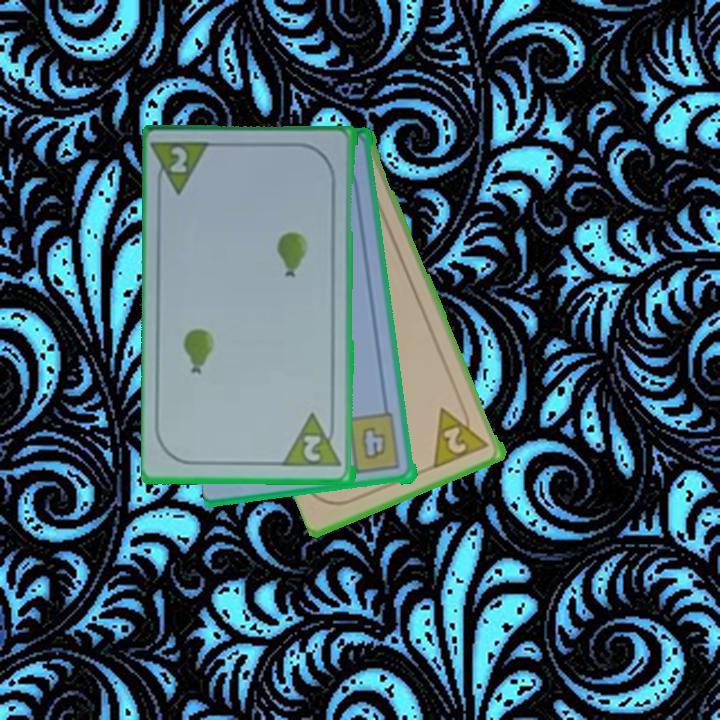2p: (430, 398, 492, 471), (300, 432, 326, 465), (167, 143, 191, 176)
4b: (342, 411, 404, 477)
